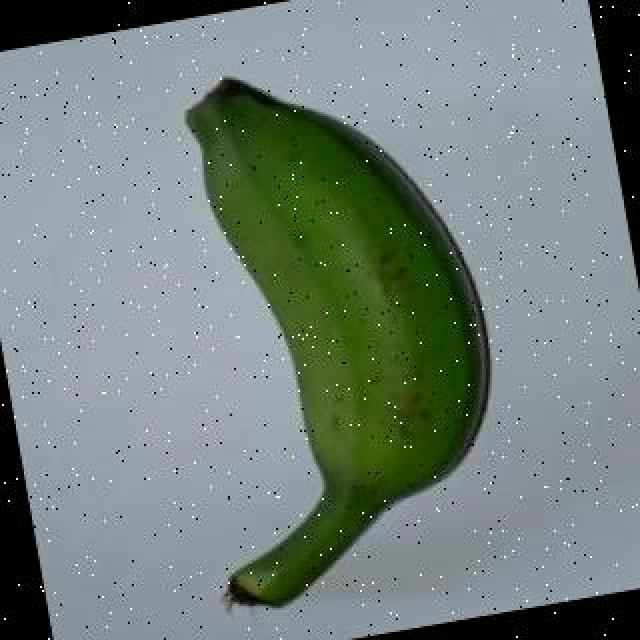Unripe: (183, 75, 490, 606)
